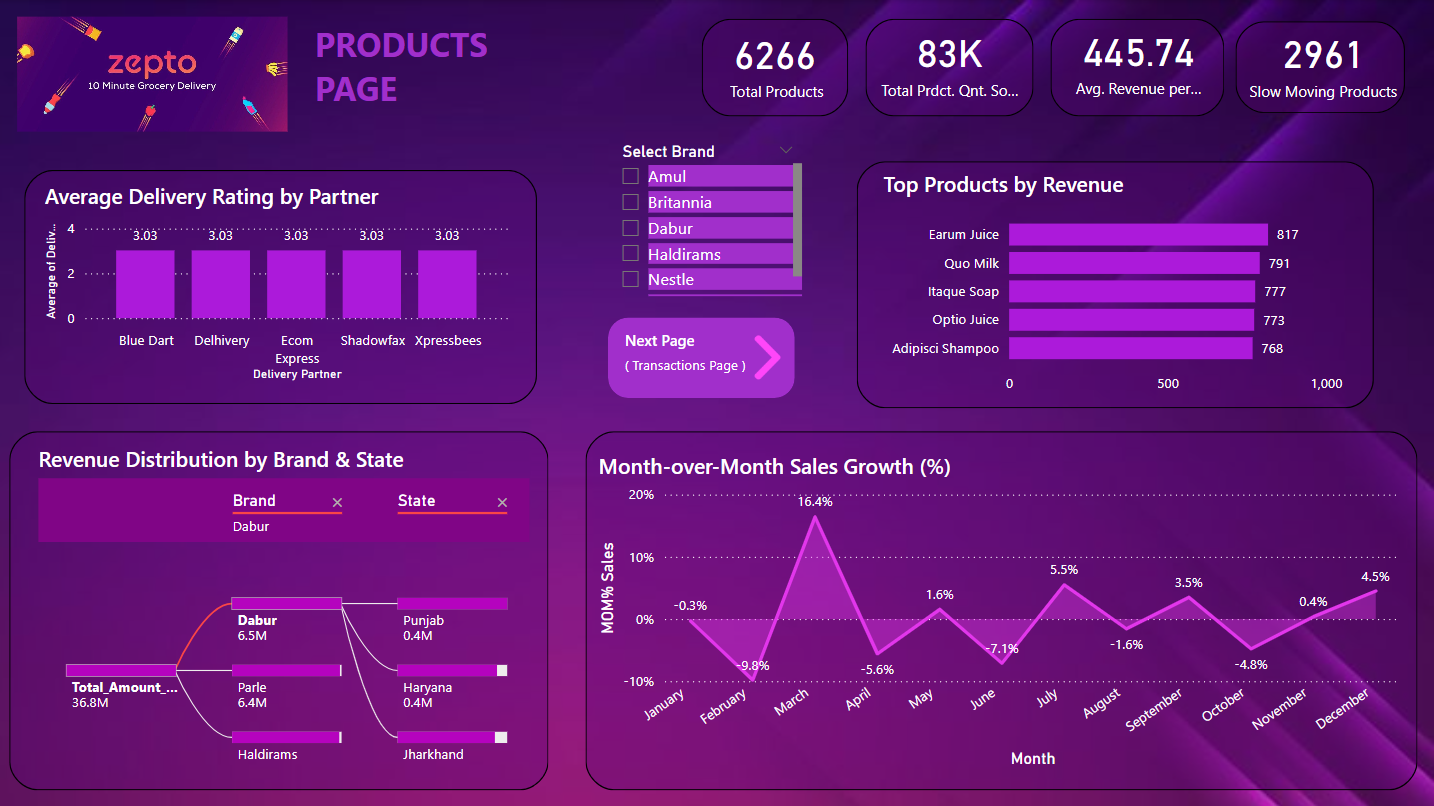

The page's visual inventory and layout, read from the dashboard file:
{"tool":"powerbi","page":{"name":"Products Page","canvas":[1280,720],"ordinal":3},"visuals":[{"type":"shape","box":[626.7,16.6,130.5,87],"z":0},{"type":"shape","box":[772.5,16.6,149.6,87],"z":1000},{"type":"shape","box":[937.5,16.6,154.8,87],"z":2000},{"type":"card","fields":{"Values":["New_Measures.Revenue_per_Product"]},"box":[954.1,10.2,124.1,85.7],"z":3000},{"type":"shape","box":[1102.5,19.2,150.9,81.9],"z":4000},{"type":"shape","box":[764.8,143.2,460.4,220],"z":5000},{"type":"shape","box":[23,150.9,456.6,208.5],"z":6000},{"type":"shape","box":[522.8,384.2,741,319.7],"z":7000},{"type":"shape","box":[9.6,384.2,480.3,319.7],"z":8000},{"type":"card","fields":{"Values":["Count(Orders.P_ID)"]},"box":[626.7,19.2,130.5,72.9],"z":9000},{"type":"card","fields":{"Values":["Sum(Orders.Qty)"]},"box":[781.5,11.5,133,85.7],"z":10000},{"type":"card","fields":{"Values":["New_Measures.Slow_Moving_product"]},"box":[1107.6,12.8,145.8,85.7],"z":11000},{"type":"decompositionTreeVisual","title":" Revenue Distribution by Brand & State","fields":{"ExplainBy":["Products.Brand","Customers.State"],"Analyze":["New_Measures.Total_Amount_After_Discount_"]},"box":[31.6,396.6,447.3,286.8],"z":12000},{"type":"image","box":[12.3,9.9,250.4,112.2],"z":13000},{"type":"areaChart","title":"Month-over-Month Sales Growth (%)","fields":{"Category":["Orders.Order_Date.Variation.Date Hierarchy.Month"],"Y":["New_Measures.MOM% Sales"]},"box":[529.7,402.1,724.5,286.8],"z":14000},{"type":"clusteredColumnChart","title":"Average Delivery Rating by Partner","fields":{"Y":["Avg(Ratings.Delivery/Service_Rating)"],"Category":["Delivery.Delivery Partner"]},"box":[37.1,161.2,423.3,182.9],"z":15000},{"type":"barChart","title":" Top Products by Revenue","fields":{"Category":["Products.PName"],"Y":["New_Measures.Revenue_per_Product"]},"box":[784,150.9,465.5,208.5],"z":16000},{"type":"shape","box":[543.6,282.7,166.3,71.6],"z":17000},{"type":"image","box":[660,294.2,49.9,48.6],"z":18000},{"type":"textbox","title":"Next Page ","box":[553.8,294.2,118.9,48.6],"z":19000},{"type":"slicer","fields":{"Values":["Products.Brand"]},"box":[543.6,121.5,177.8,147.1],"z":20000},{"type":"textbox","title":"PRODUCTS PAGE","box":[277.5,19.2,213.6,81.9],"z":21000}]}

Visuals, with their boxes in screenshot pixels (x1, y1, x2, y2), scaled from the page's 1280x720 canvas onto the 1434x806 screenshot:
shape: 702/19/848/116
shape: 865/19/1033/116
shape: 1050/19/1224/116
card - New_Measures.Revenue_per_Product: 1069/11/1208/107
shape: 1235/21/1404/113
shape: 857/160/1373/407
shape: 26/169/537/402
shape: 586/430/1416/788
shape: 11/430/549/788
card - Count(Orders.P_ID): 702/21/848/103
card - Sum(Orders.Qty): 876/13/1025/109
card - New_Measures.Slow_Moving_product: 1241/14/1404/110
" Revenue Distribution by Brand & State" decompositionTreeVisual: 35/444/537/765
image: 14/11/294/137
"Month-over-Month Sales Growth (%)" areaChart: 593/450/1405/771
"Average Delivery Rating by Partner" clusteredColumnChart: 42/180/516/385
" Top Products by Revenue" barChart: 878/169/1400/402
shape: 609/316/795/397
image: 739/329/795/384
"Next Page " textbox: 620/329/754/384
slicer - Products.Brand: 609/136/808/301
"PRODUCTS PAGE" textbox: 311/21/550/113
